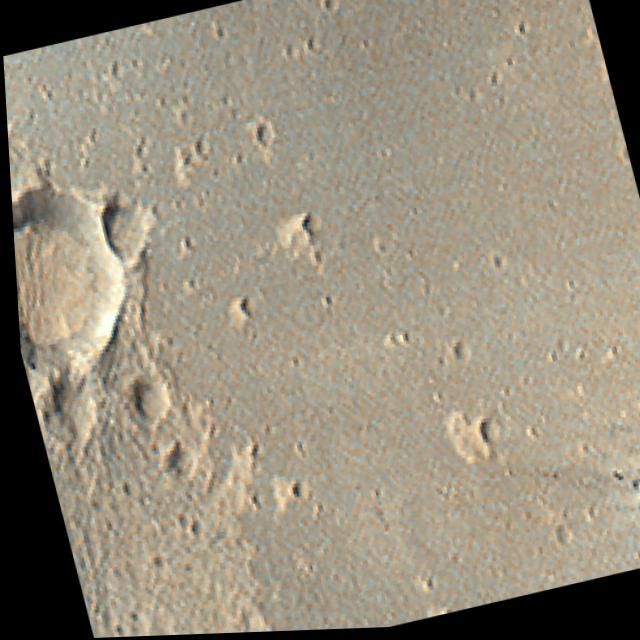Crater: (7, 138, 177, 398), (15, 317, 125, 466), (72, 153, 178, 295)
